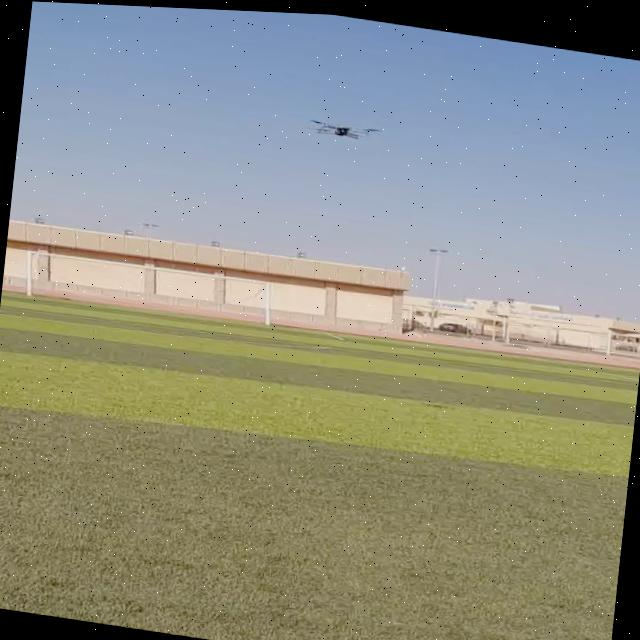drone: (298, 107, 373, 147)
